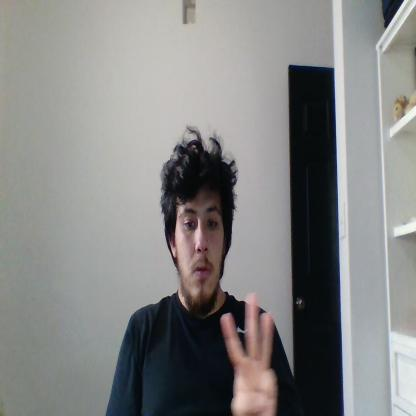W: (221, 292, 278, 415)
